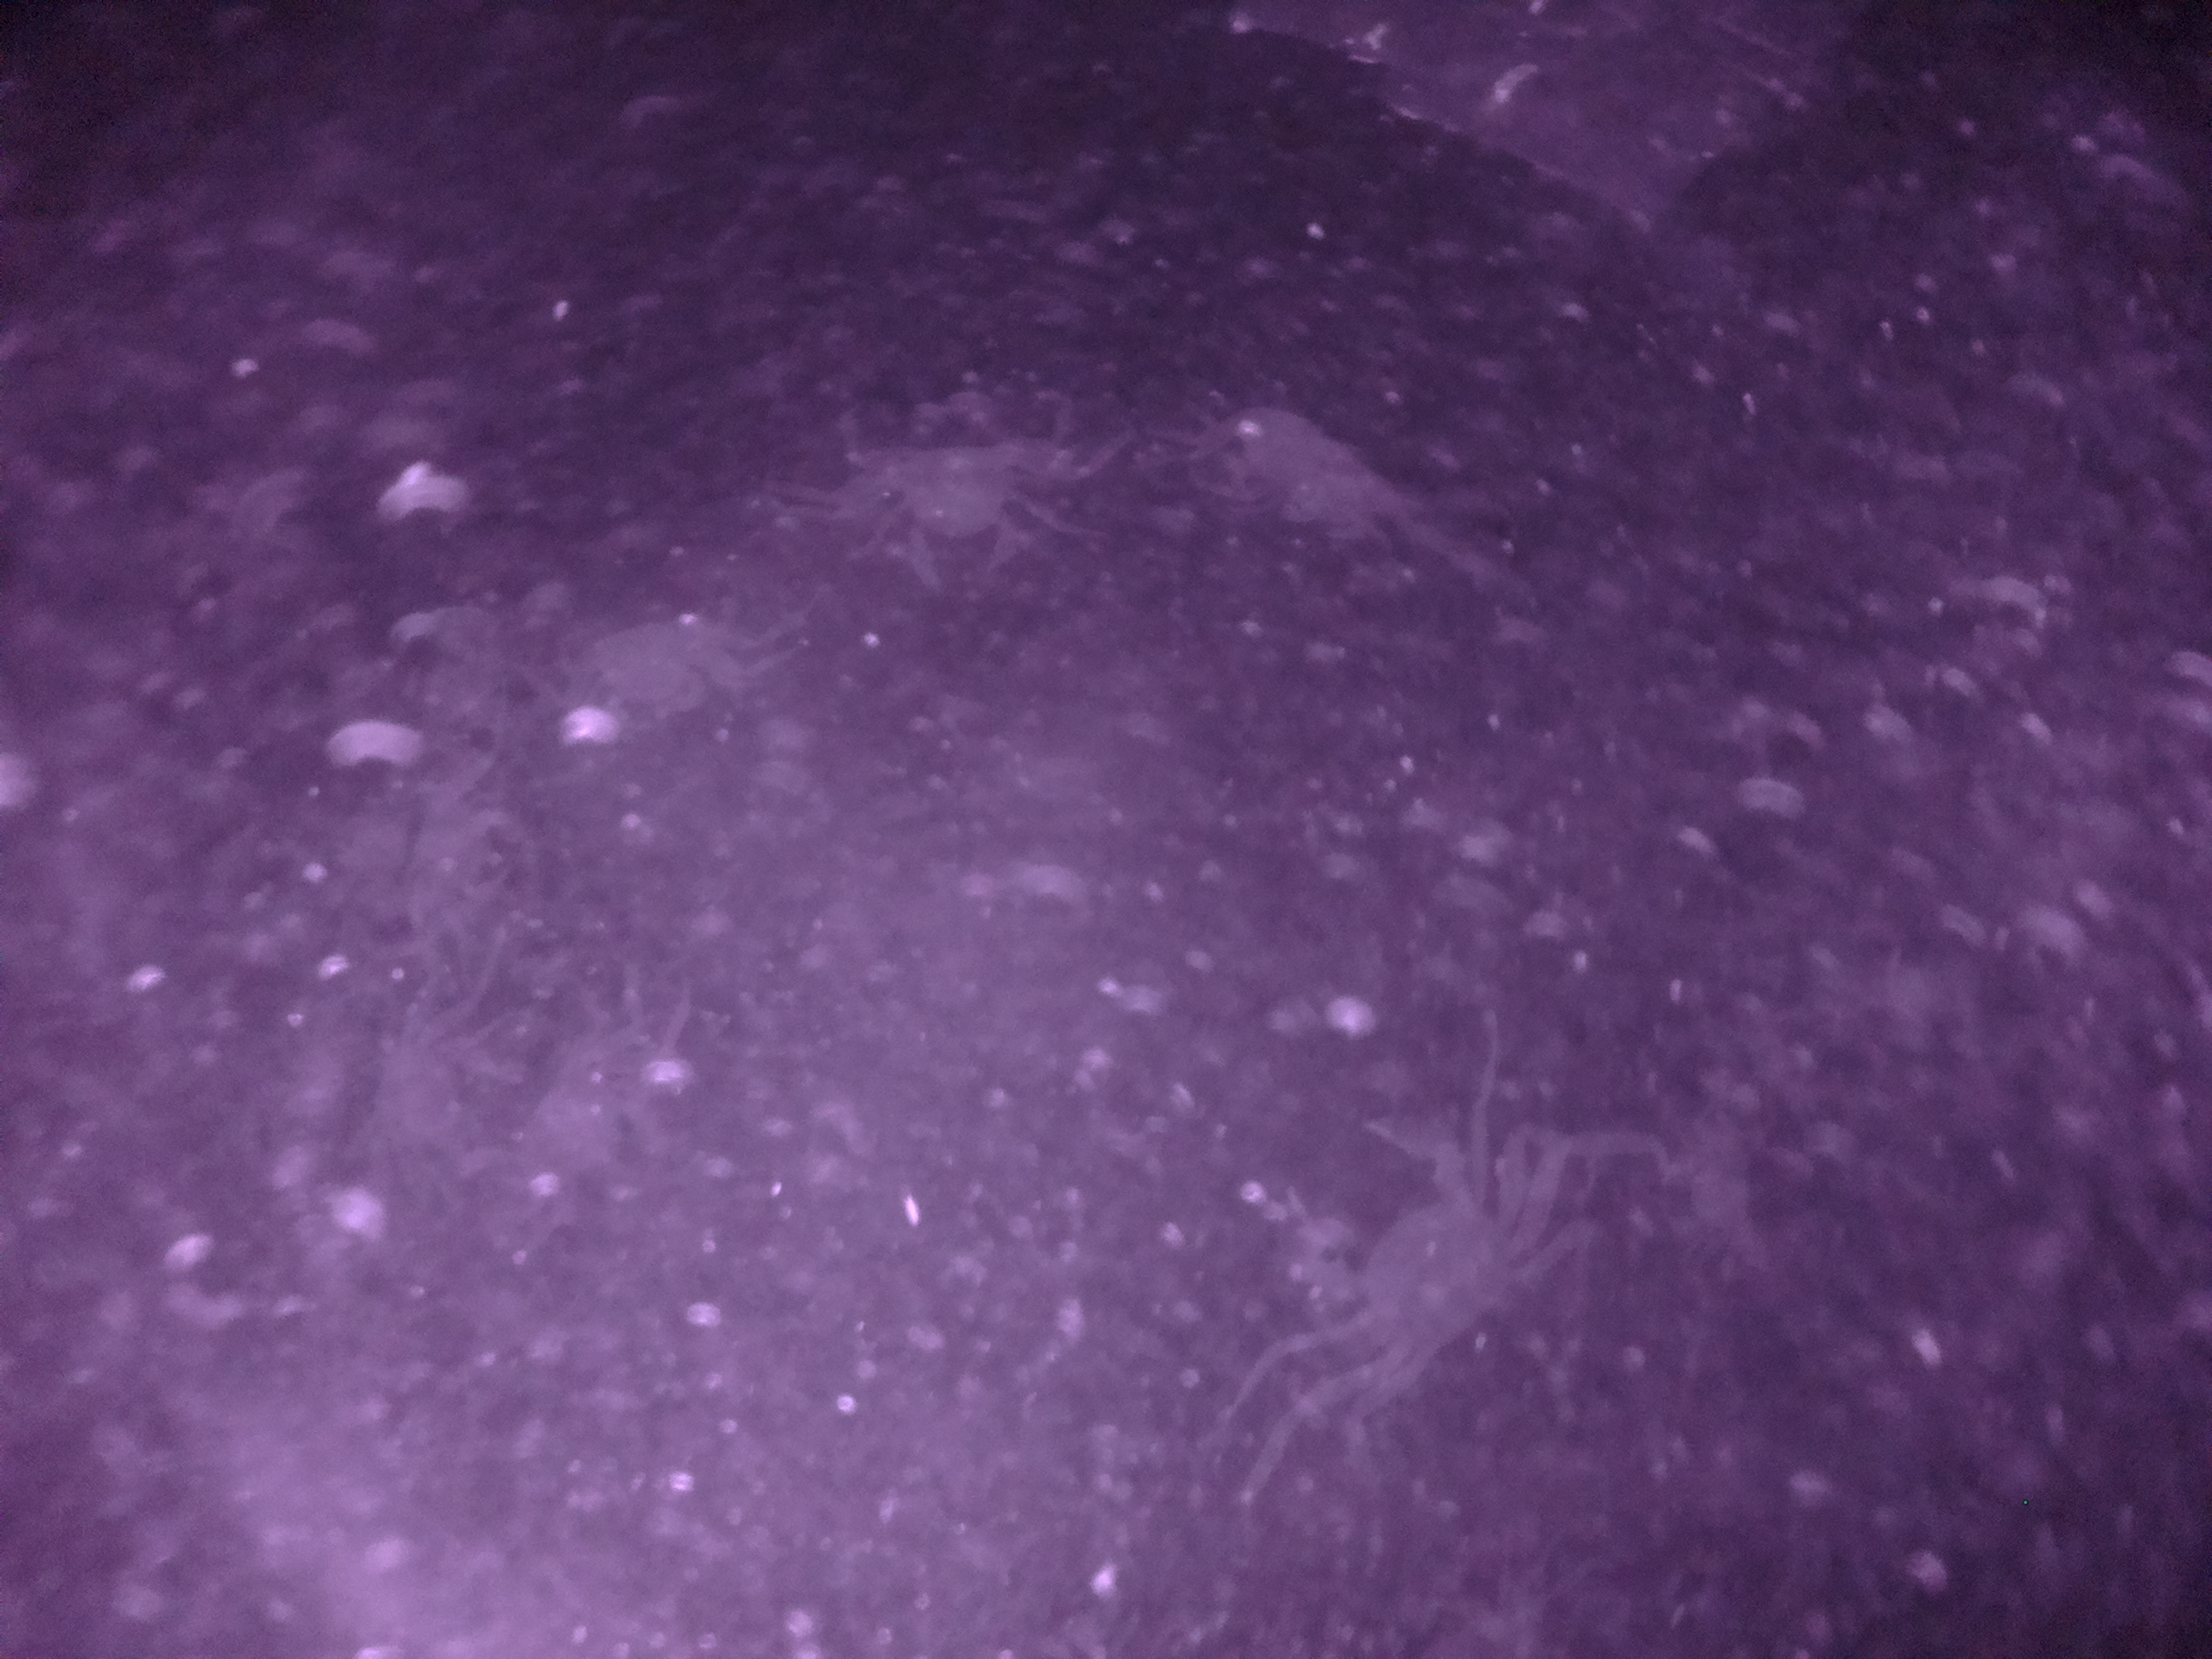Crab: (862, 403, 1064, 589)
